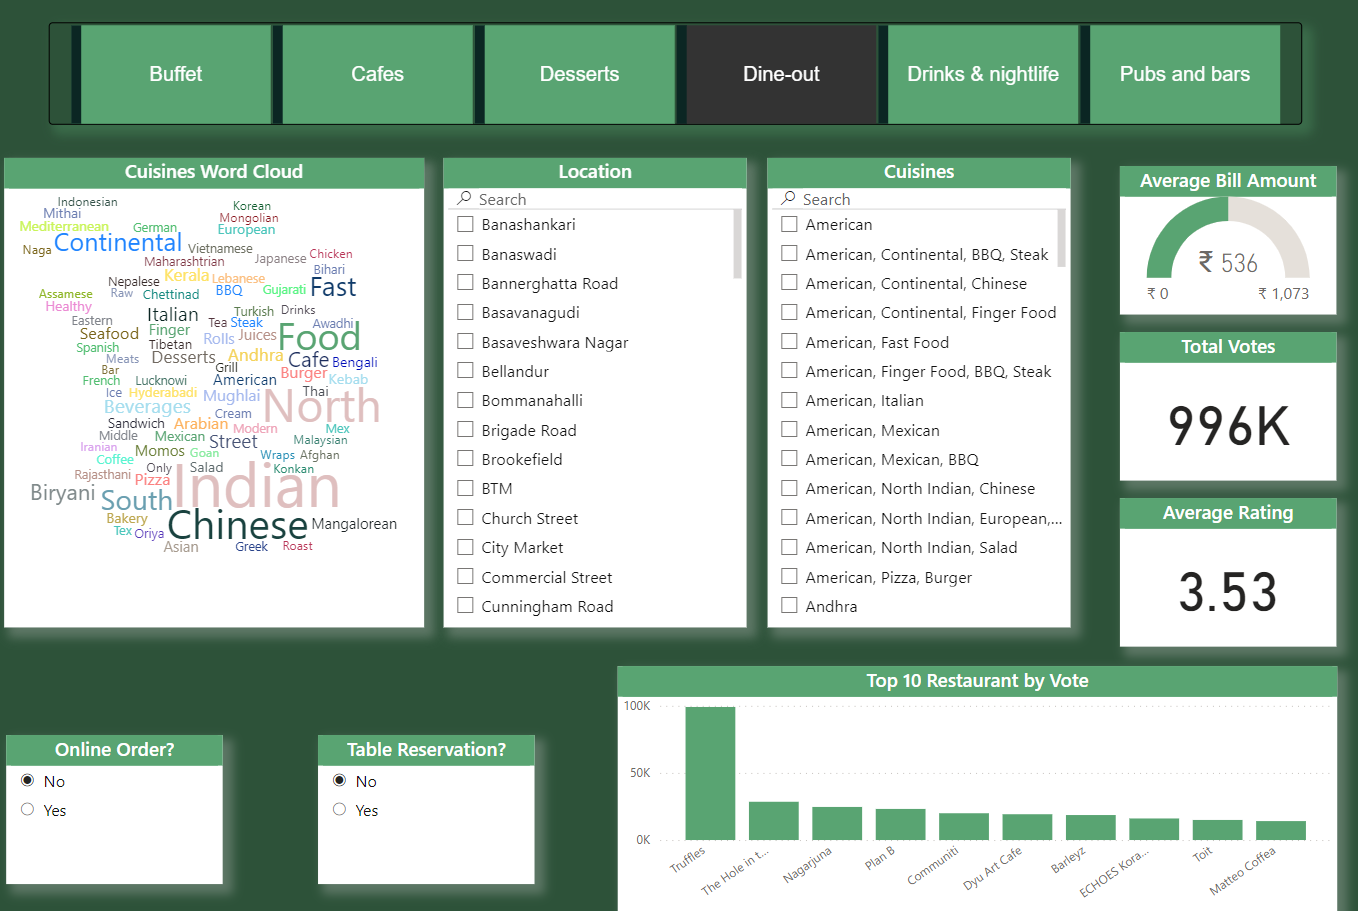

The dashboard page shown, as its layout file describes it:
{"tool":"powerbi","page":{"name":"Report","canvas":[1350,900],"ordinal":0},"visuals":[{"type":"gauge","title":"Average Bill Amount","fields":{"Y":["Avg(zomato.approx_cost(for two people))"]},"box":[1113.3,163.7,213.9,146.7],"z":2000},{"type":"card","title":"Total Votes","fields":{"Values":["Sum(zomato.votes)"]},"box":[1113.9,328.7,213.9,146.7],"z":3000},{"type":"card","title":"Average Rating","fields":{"Values":["Avg(zomato.rate)"]},"box":[1114.6,491.2,213.9,146.7],"z":4000},{"type":"columnChart","title":"Top 10 Restaurant by Vote","fields":{"Category":["zomato.name"],"Y":["Sum(zomato.votes)"]},"box":[617.2,657.3,710.8,242.7],"z":5000},{"type":"slicer","title":"Table Reservation?","fields":{"Values":["zomato.book_table"]},"box":[321,726.1,214,147],"z":6000},{"type":"slicer","title":"Online Order?","fields":{"Values":["zomato.online_order"]},"box":[13.4,726.1,214,147.1],"z":7000},{"type":"slicer","title":"Cuisines","fields":{"Values":["zomato.cuisines"]},"box":[765.3,156.1,299.3,463.9],"z":8000},{"type":"slicer","title":"Location","fields":{"Values":["zomato.location"]},"box":[446.8,156.1,299.3,463.9],"z":9000},{"type":"WordCloud1447959067750","title":"Cuisines Word Cloud","fields":{"Category":["zomato.cuisines"]},"box":[12.8,156.1,414.7,463.9],"z":10000},{"type":"slicer","title":"Restaurant Type","fields":{"Values":["zomato.listed_in(type)"]},"box":[55.9,21,1238.2,101.3],"z":10500}]}

Visuals, with their boxes in screenshot pixels (x1, y1, x2, y2), scaled from the page's 1350x900 canvas onto the 1358x911 screenshot:
"Average Bill Amount" gauge: (1120,166,1335,314)
"Total Votes" card: (1121,333,1336,481)
"Average Rating" card: (1121,497,1336,646)
"Top 10 Restaurant by Vote" columnChart: (621,665,1336,910)
"Table Reservation?" slicer: (323,735,538,884)
"Online Order?" slicer: (13,735,229,884)
"Cuisines" slicer: (770,158,1071,628)
"Location" slicer: (449,158,751,628)
"Cuisines Word Cloud" WordCloud1447959067750: (13,158,430,628)
"Restaurant Type" slicer: (56,21,1302,124)
